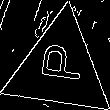P_W: (33, 46, 86, 90)
